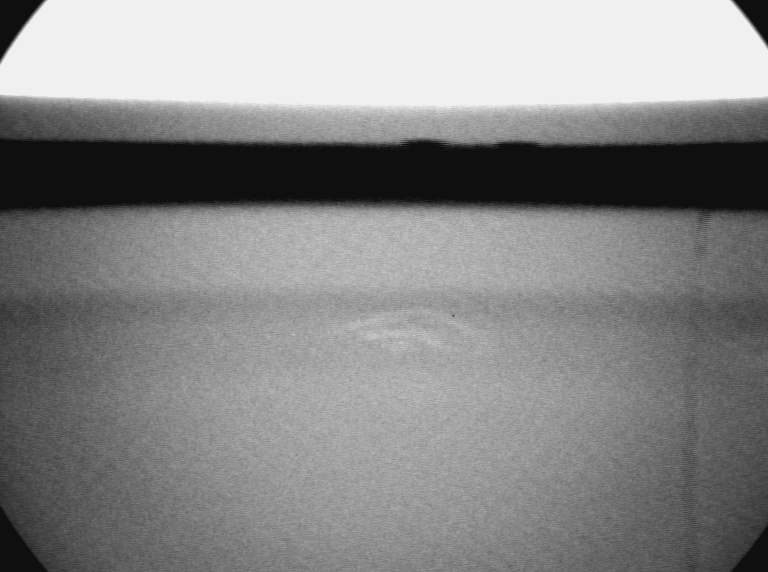defect: (341, 302, 484, 370)
